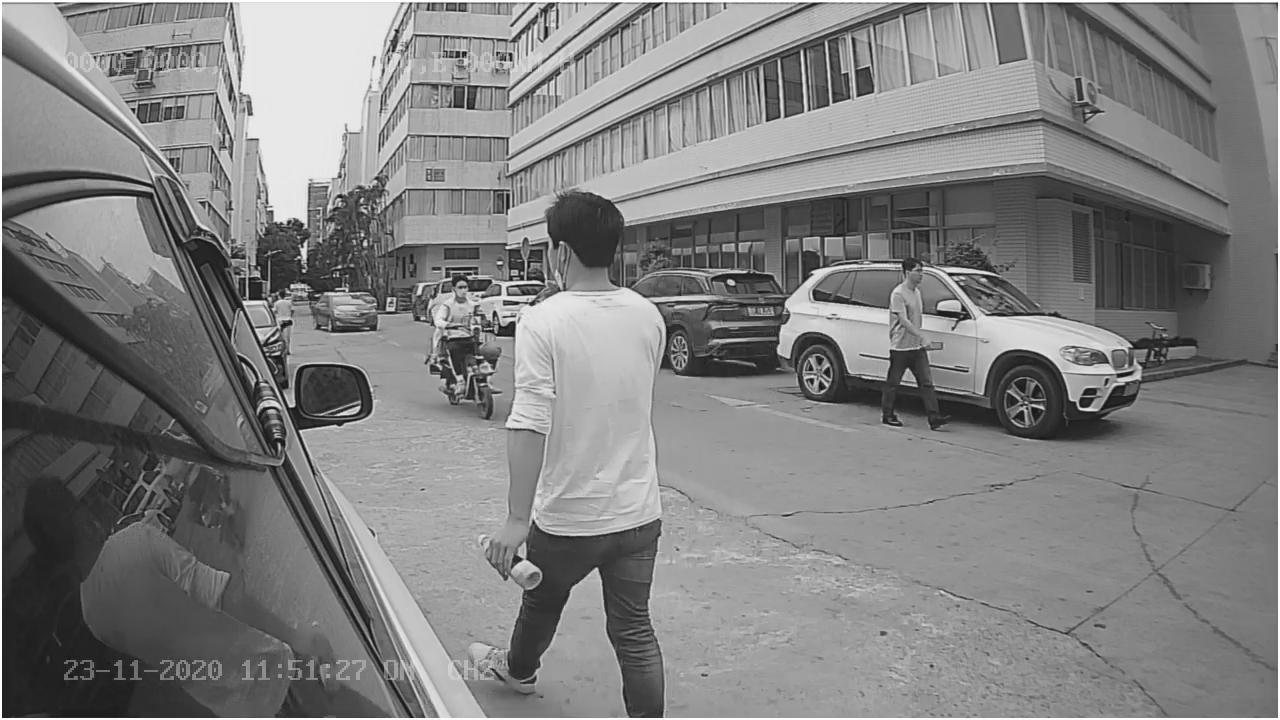person: (486, 187, 689, 634), (878, 254, 959, 434)
